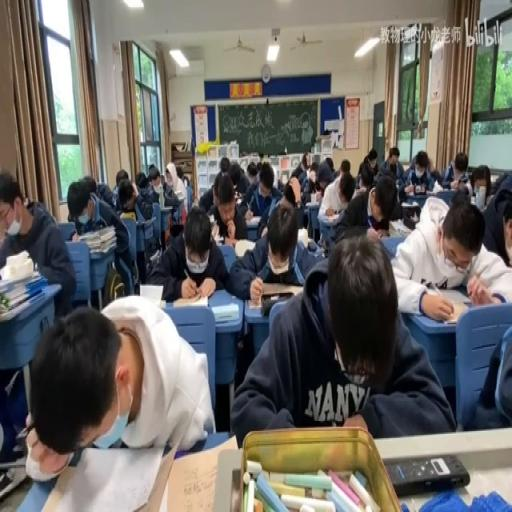calculator: (36, 435, 170, 509), (158, 437, 238, 509), (429, 286, 473, 314), (380, 233, 406, 259), (170, 290, 208, 307), (210, 302, 238, 322), (140, 282, 164, 302), (399, 202, 421, 223), (233, 236, 254, 256), (389, 218, 412, 236), (321, 209, 342, 222), (120, 209, 136, 221), (138, 215, 155, 226), (148, 248, 160, 263), (247, 297, 262, 309), (210, 222, 219, 240), (245, 216, 261, 225), (174, 189, 184, 201), (426, 189, 443, 196), (306, 198, 320, 206), (159, 204, 173, 210), (208, 213, 214, 225), (235, 196, 243, 205)
paper: (233, 230, 449, 442), (389, 192, 511, 317), (0, 172, 76, 320), (148, 204, 228, 302), (67, 178, 131, 298), (464, 317, 510, 431), (332, 172, 396, 243), (241, 162, 283, 235), (198, 158, 248, 212), (132, 168, 162, 218), (403, 148, 435, 192), (442, 148, 472, 189), (302, 159, 330, 202), (170, 168, 188, 232), (377, 144, 402, 184), (467, 164, 491, 204), (278, 175, 302, 212), (487, 168, 512, 195), (117, 183, 137, 215), (356, 161, 374, 189), (96, 182, 114, 208), (338, 176, 354, 202), (294, 155, 308, 178), (83, 175, 97, 196), (246, 160, 258, 184), (429, 166, 442, 185), (115, 168, 128, 185), (218, 155, 230, 172), (366, 148, 377, 165), (324, 155, 334, 171), (174, 164, 184, 180), (164, 176, 174, 192), (340, 158, 350, 173), (138, 180, 148, 194), (212, 185, 218, 203), (256, 160, 262, 174), (160, 174, 166, 186), (182, 176, 188, 186)
person: (384, 452, 470, 496), (260, 294, 294, 316), (412, 184, 426, 194)
